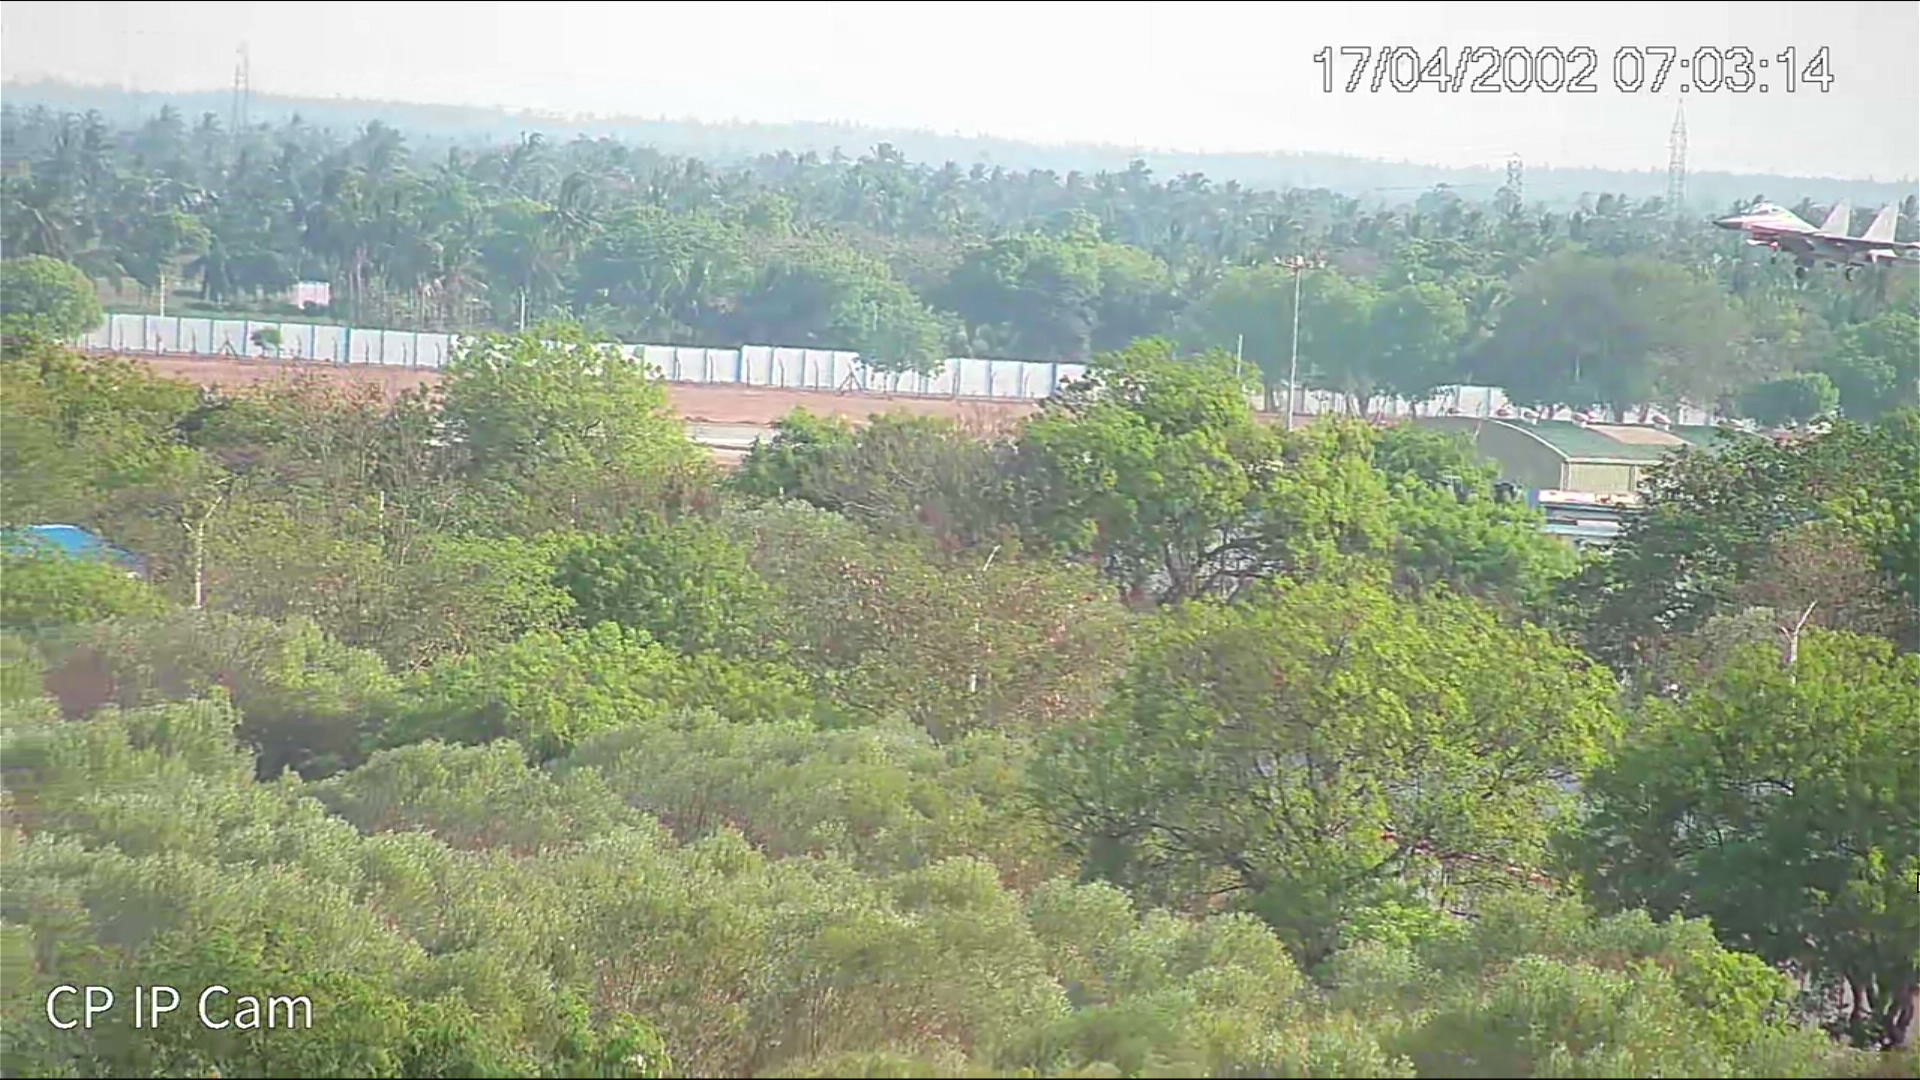SU_30: (1702, 193, 1908, 274)
